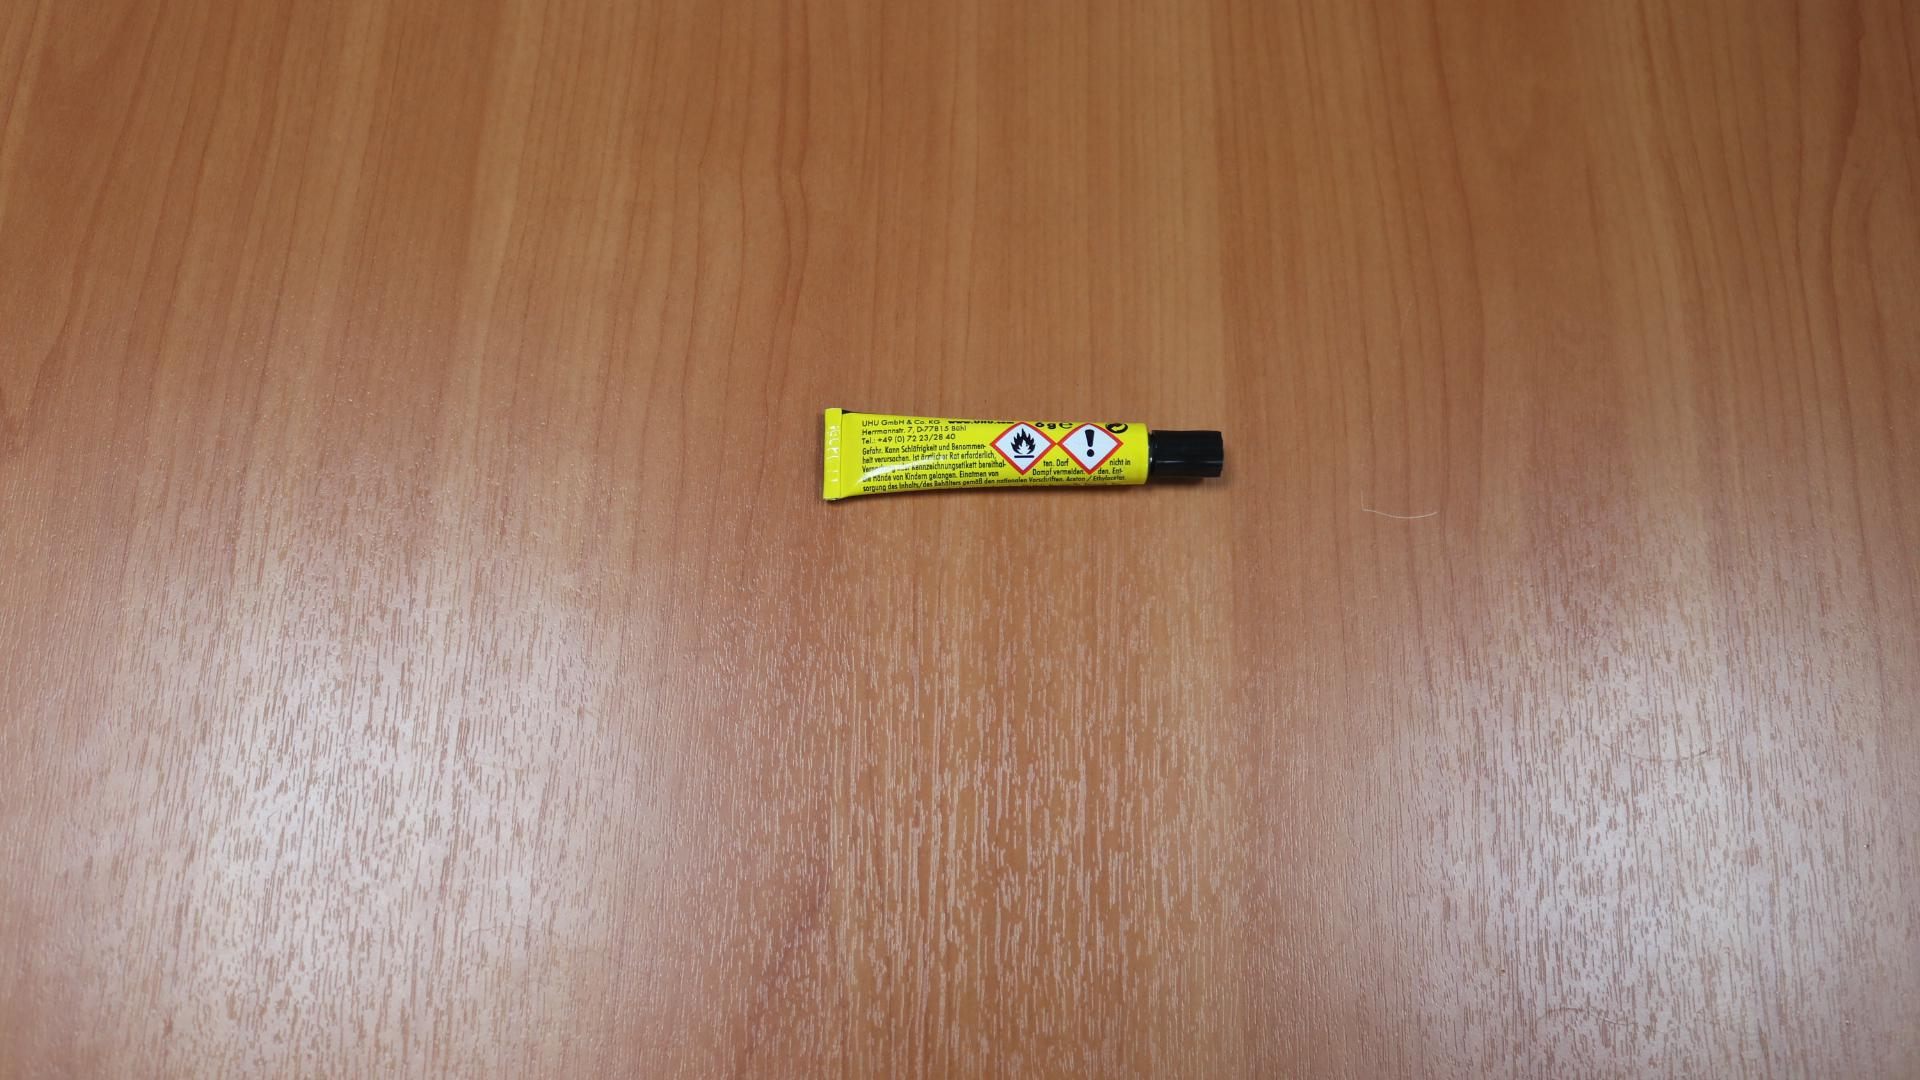Head: (1180, 446, 1193, 459)
Tail: (825, 446, 839, 461)
Tube: (822, 407, 1225, 501)
